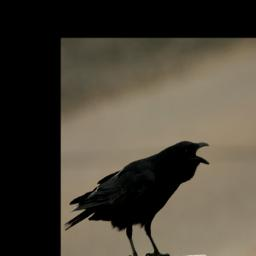Crow: (64, 141, 210, 256)
